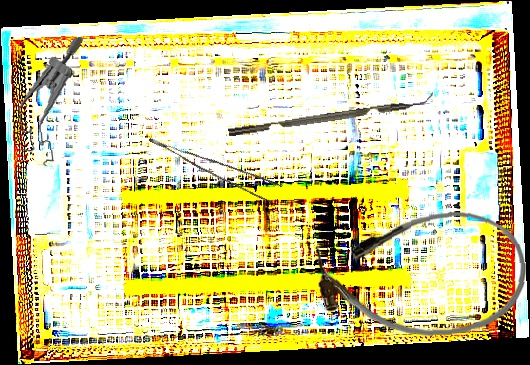Cannula: (313, 208, 530, 342)
Chopper: (226, 89, 436, 137)
Speculum: (8, 36, 98, 169)
Tissue Forceps: (148, 117, 283, 210)
